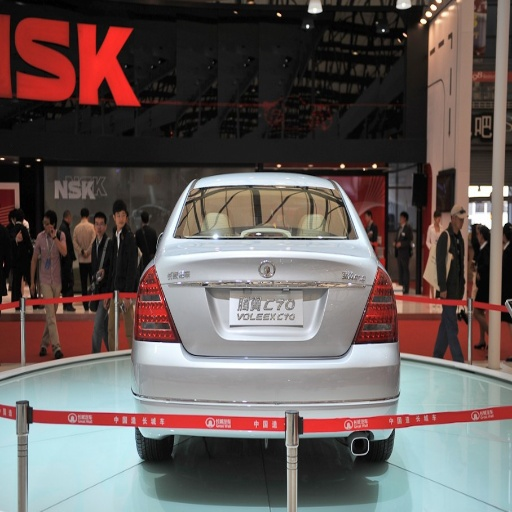back_bumper: (119, 342, 401, 446)
